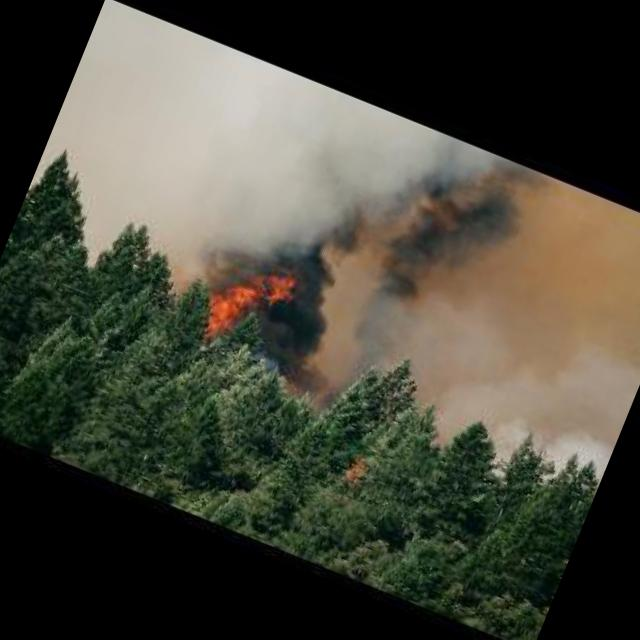fire: (189, 242, 313, 364)
